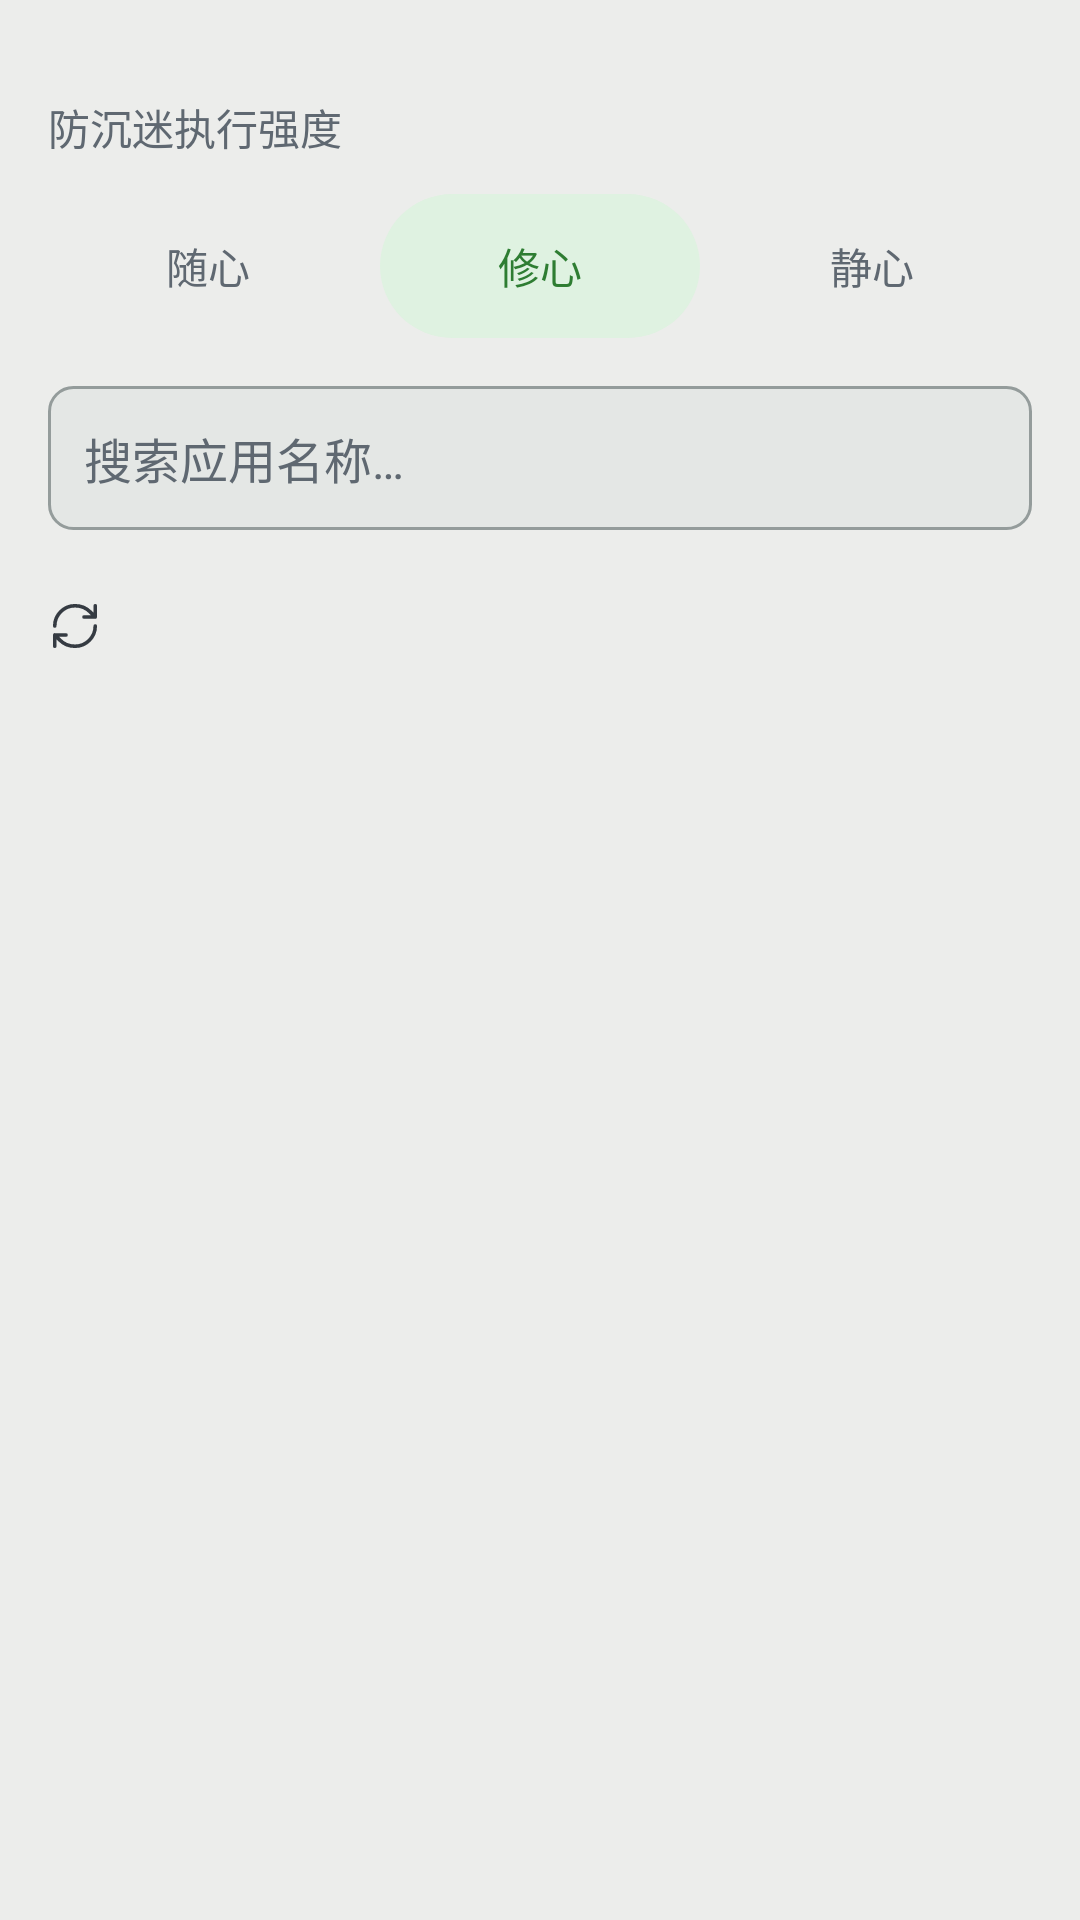

Named icons in this screenshot (1080px x 1920px) and their centers, point (x, y):
刷新应用列表: point (75, 626)
